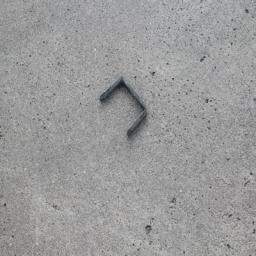FOD: (95, 74, 157, 140)
